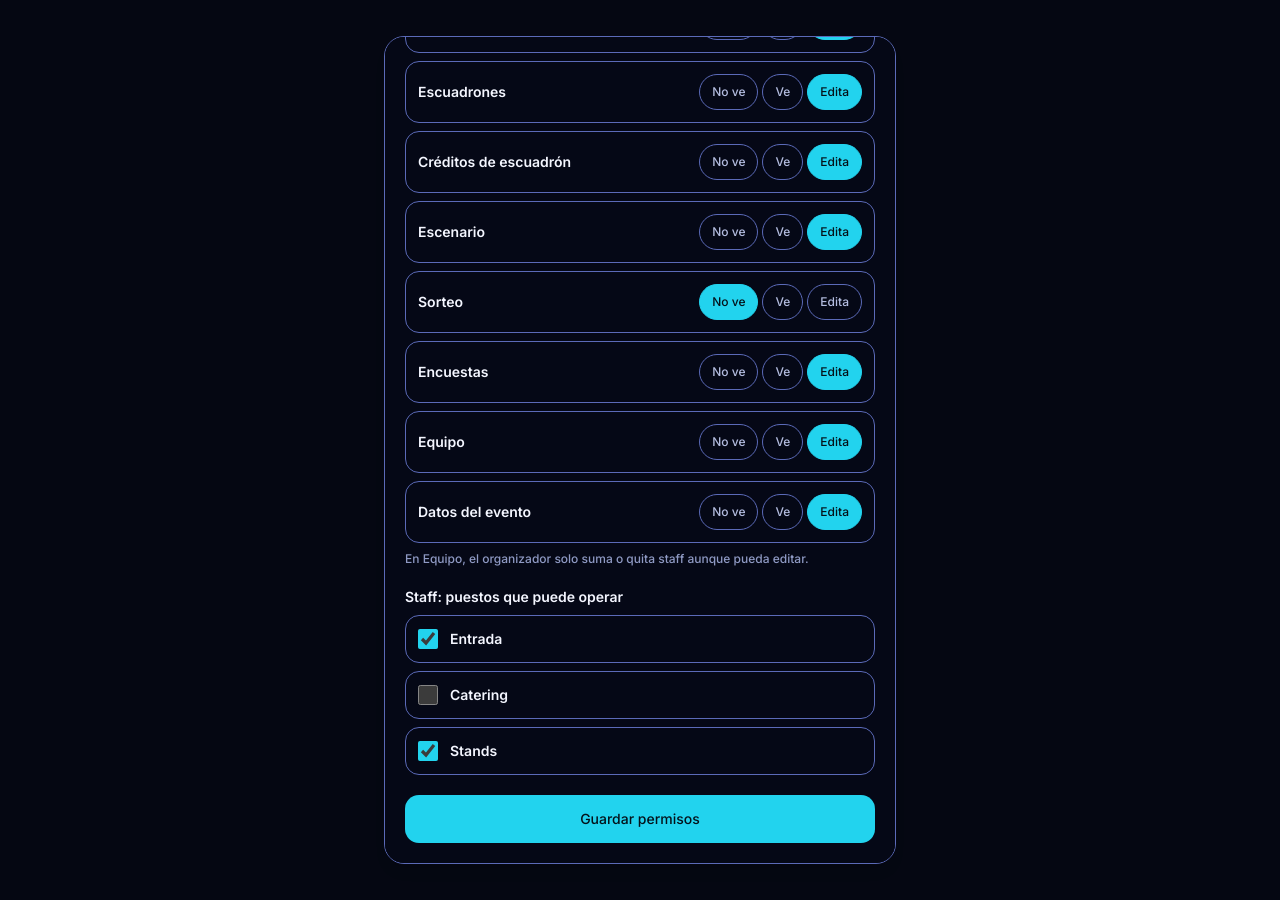
Test: PermissionsDialog › shows the reason when saving is refused
(page scrolled)
Click the button "Guardar permisos".
click(640, 819)  # box [405, 795, 875, 843]
(page scrolled)
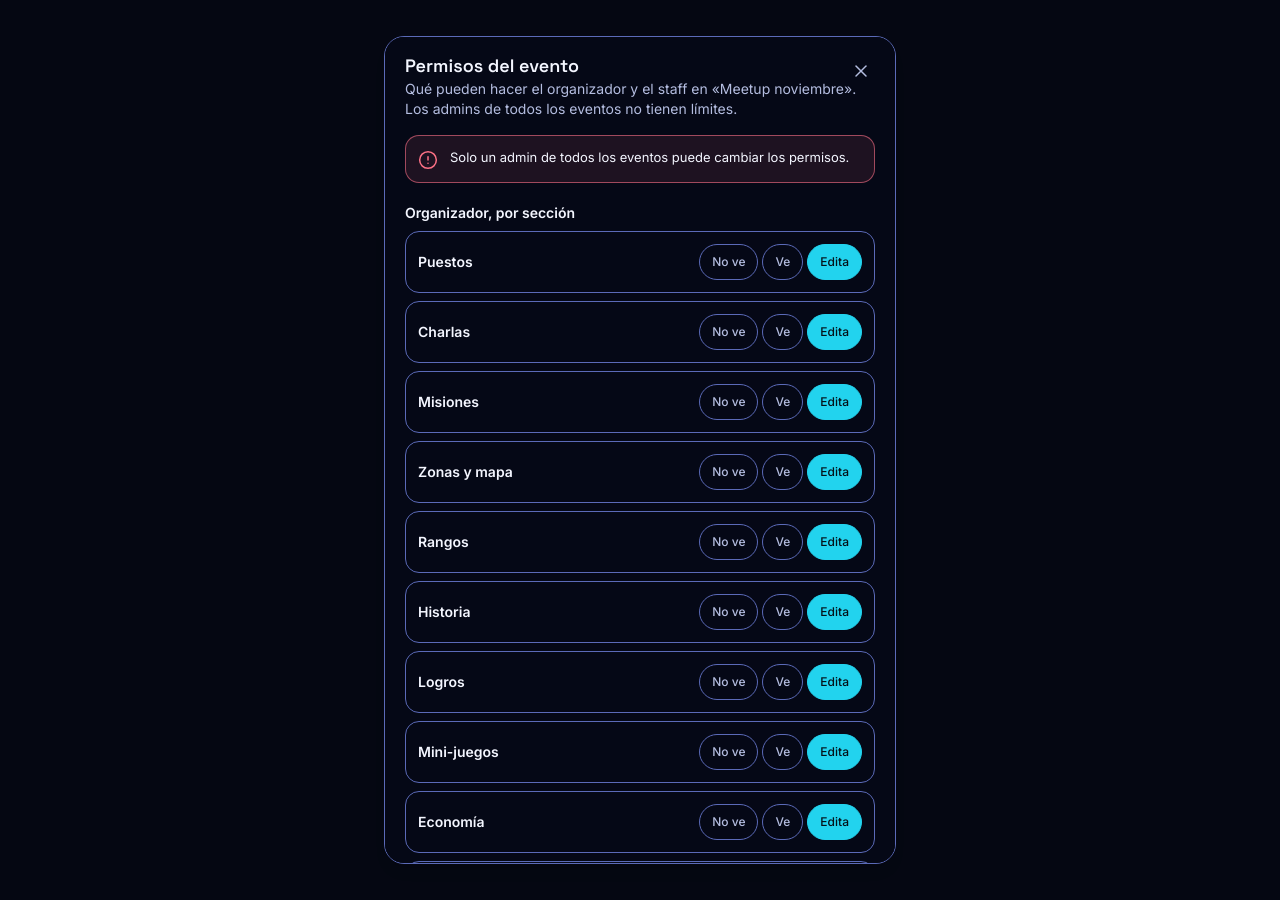
Expected: the message reads "Solo un admin de todos los eventos puede cambiar los permisos.", [450, 149, 849, 165]
